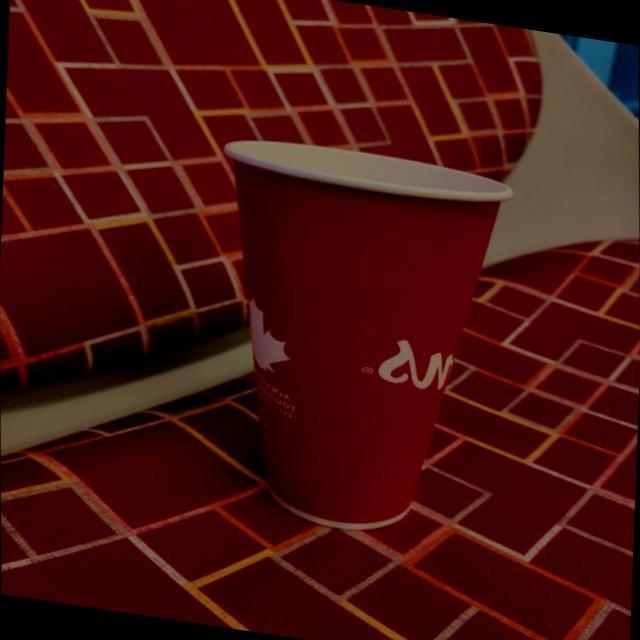timmies: (222, 133, 516, 528)
